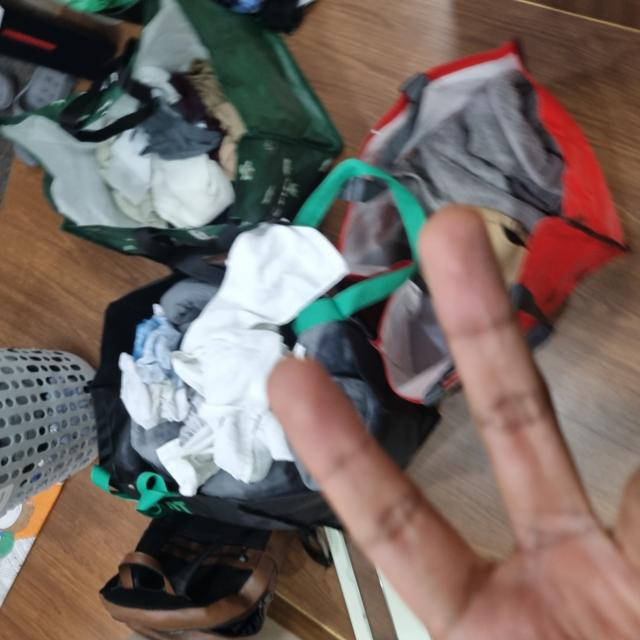Scissors: (0, 269, 429, 639)
